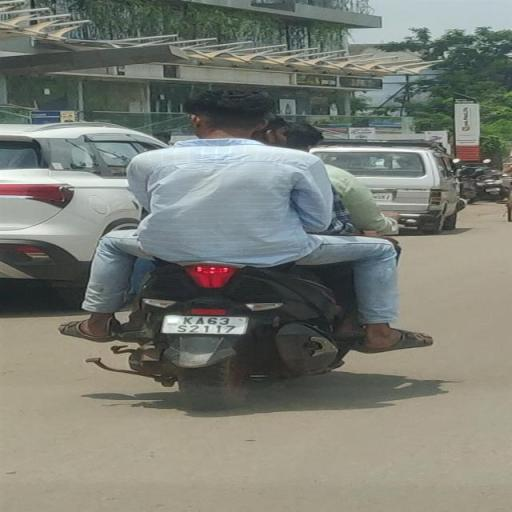tripple riding: (42, 88, 446, 270)
